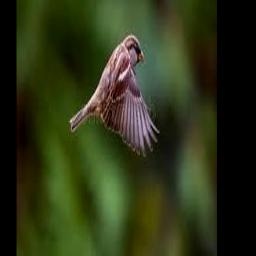Sparrow: (70, 33, 160, 156)
